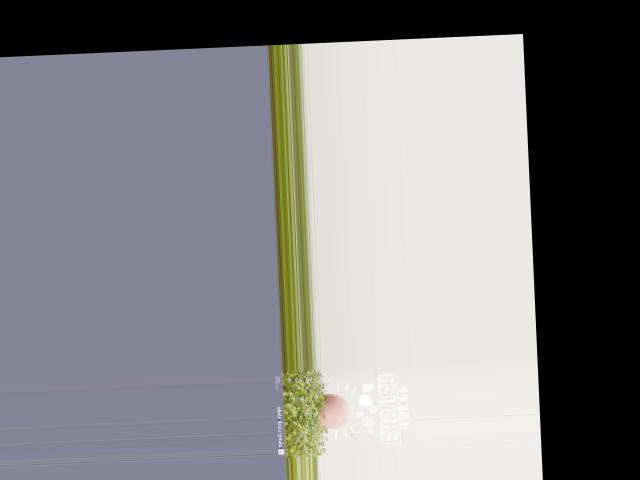egg: (317, 391, 353, 427)
